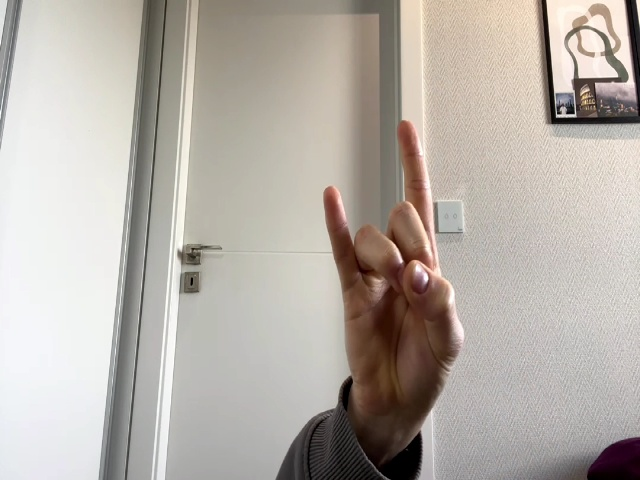Y: (324, 120, 465, 398)
